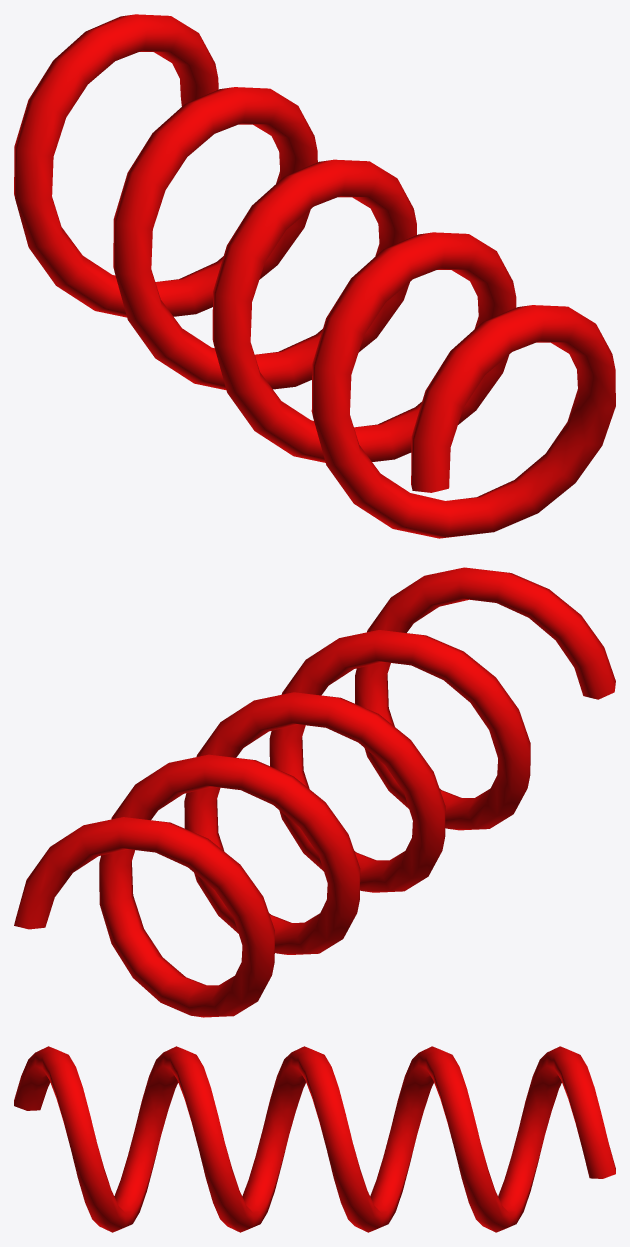
The model's file is LifeLine_RefugeChamber.FBX.
The picture shows the model from 3 angles, top to bottom: view 1: azimuth 30°, elevation 25°; view 2: azimuth 150°, elevation 25°; view 3: azimuth 270°, elevation 25°; orthographic projection. The views are drawn at different scales.
Parts seen in each view (by area): view 1: Lifeline_RefugeChamber; view 2: Lifeline_RefugeChamber; view 3: Lifeline_RefugeChamber.
Part boxes in pixels (x1,y1,x2,y2): Lifeline_RefugeChamber: (14, 14, 615, 538); Lifeline_RefugeChamber: (14, 567, 615, 1017); Lifeline_RefugeChamber: (14, 1046, 615, 1232).
Size of the model in its own units: 7.63 by 7.51 by 24.53.
